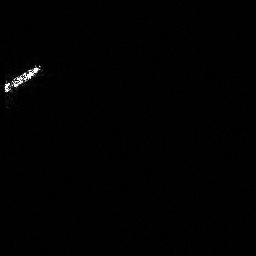ship: (1, 60, 48, 98)
